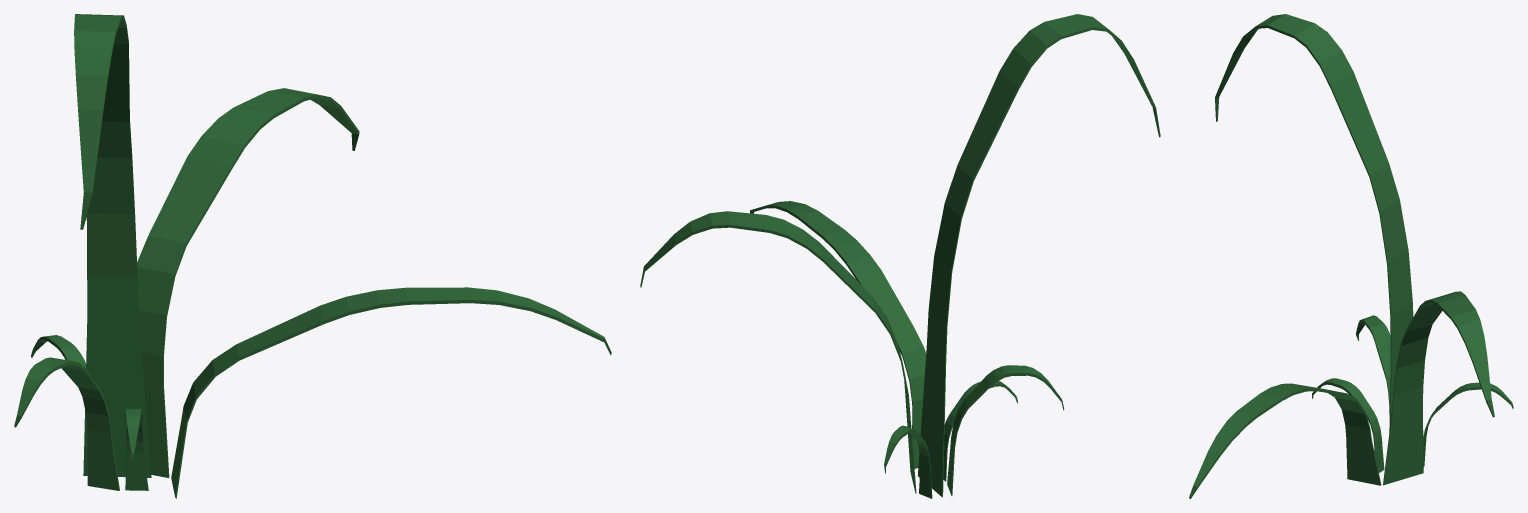
Rendered from plantetombante3.fbx.
3 views of the same model, side by side, from view 1: azimuth 30°, elevation 25°; view 2: azimuth 150°, elevation 25°; view 3: azimuth 270°, elevation 25° (orthographic). The views are drawn at different scales.
Visible parts, largest first — view 1: plante tomabnte 3; view 2: plante tomabnte 3; view 3: plante tomabnte 3.
Part boxes in pixels (x1,y1,x2,y2): plante tomabnte 3: (14, 14, 611, 498); plante tomabnte 3: (640, 14, 1160, 498); plante tomabnte 3: (1189, 14, 1513, 498).
Size of the model in its own units: 40.23 by 28.44 by 40.
